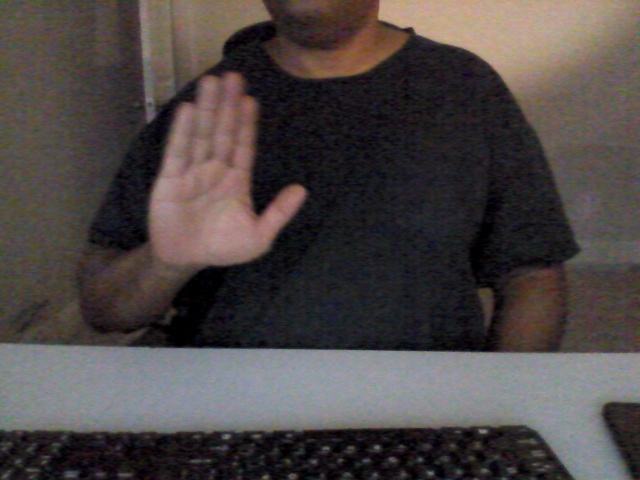hello: (146, 71, 321, 278)
